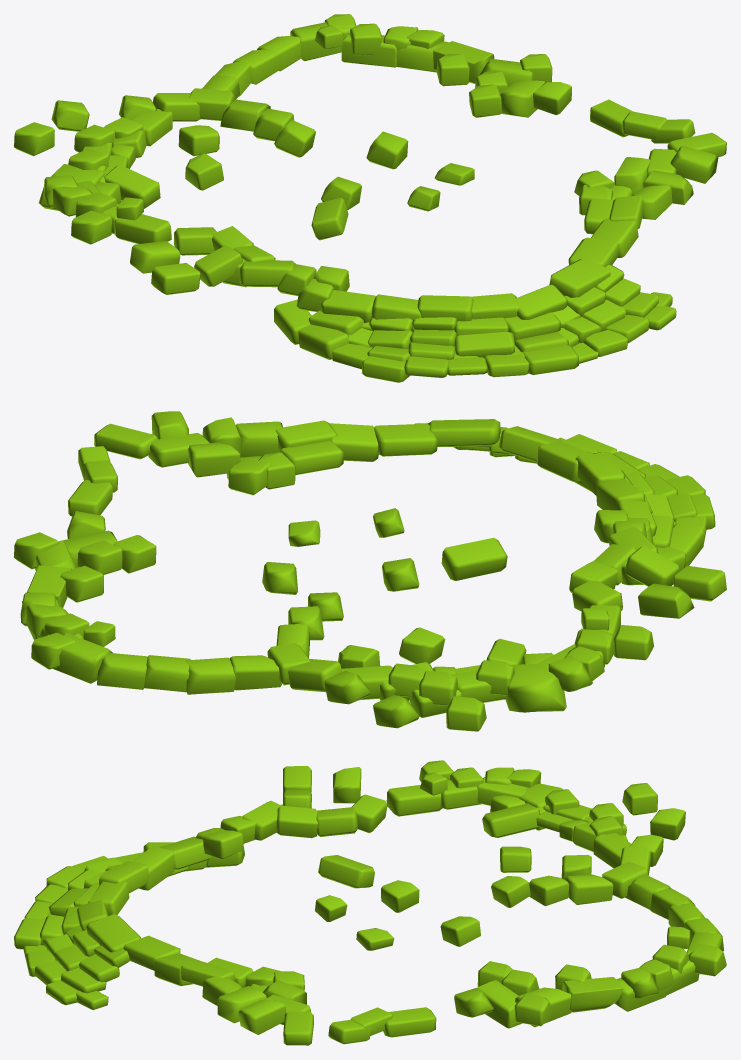
The model's file is Floor_Break_C_04A_Lod0.fbx.
The picture shows the model from 3 angles, top to bottom: view 1: azimuth 30°, elevation 25°; view 2: azimuth 150°, elevation 25°; view 3: azimuth 270°, elevation 25°; orthographic projection. The views are drawn at different scales.
Parts seen in each view (by area): view 1: Floor_Break_C_04A_Lod0; view 2: Floor_Break_C_04A_Lod0; view 3: Floor_Break_C_04A_Lod0.
Part boxes in pixels (x1,y1,x2,y2): Floor_Break_C_04A_Lod0: (14, 14, 726, 382); Floor_Break_C_04A_Lod0: (14, 411, 726, 731); Floor_Break_C_04A_Lod0: (14, 760, 726, 1045).
Bounding box in the file's own units: 799 × 90.96 × 885.
